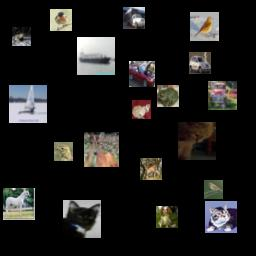automobile: (129, 61, 155, 87), (189, 52, 211, 74)
bird: (190, 12, 219, 41), (50, 9, 72, 31), (204, 180, 223, 199), (54, 142, 73, 161)
cat: (63, 200, 101, 238), (178, 122, 216, 160), (205, 201, 237, 233), (132, 100, 151, 119)
deer: (84, 132, 119, 167), (140, 158, 162, 180)
dog: (156, 206, 178, 228)
frog: (157, 85, 179, 107), (12, 27, 31, 46)
ship: (9, 85, 47, 123), (77, 37, 115, 75)
truck: (208, 81, 237, 110), (123, 7, 145, 29)
